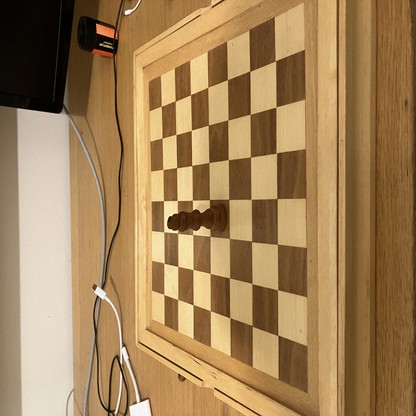king_black: (167, 206, 228, 230)
